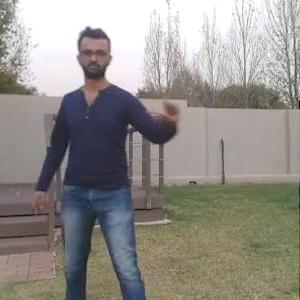land_hand: (144, 80, 185, 124)
